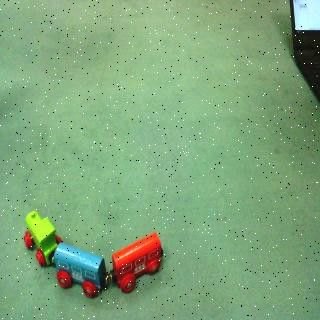train: (21, 205, 169, 304)
